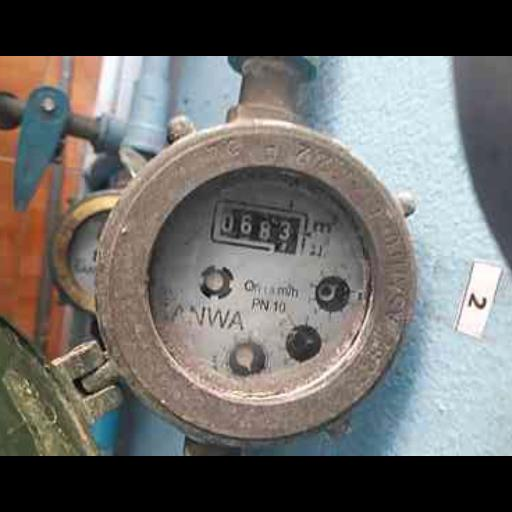0: (219, 207, 240, 239)
3: (272, 214, 300, 255)
6: (237, 209, 258, 241)
8: (254, 211, 276, 243)
border_water_meter_number: (209, 198, 310, 256)
